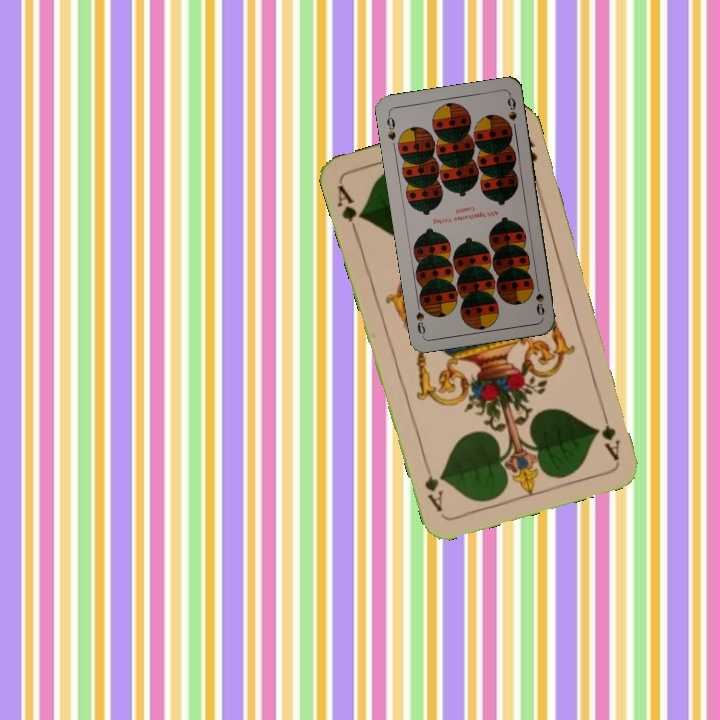GA: (333, 180, 367, 238), (597, 404, 623, 463)
S9: (532, 278, 547, 319), (383, 110, 398, 143)
